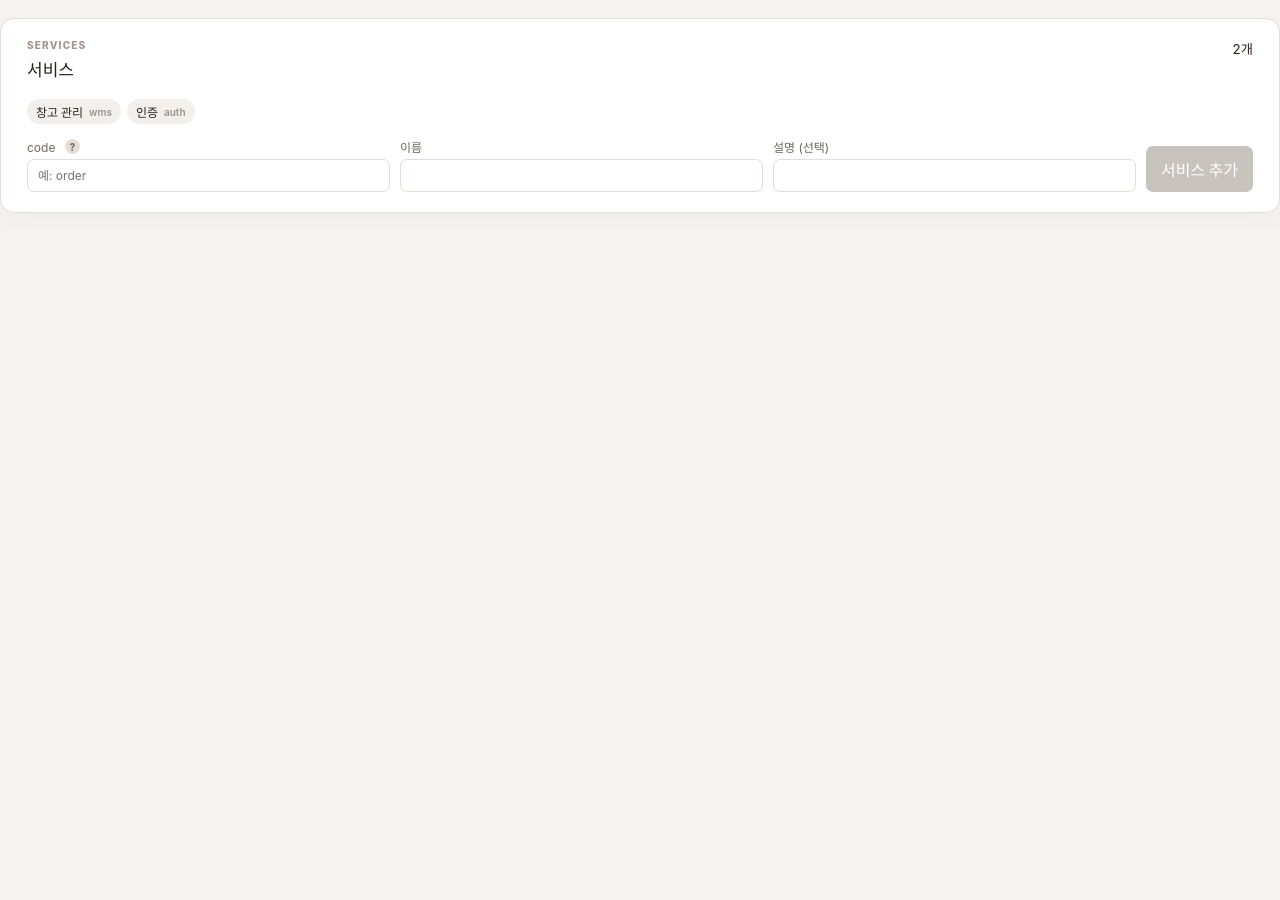
Test: AudiencePanel › owner는 올바른 code와 이름으로 서비스를 추가한다
Expected: the button "서비스 추가" is disabled, top-left (1146, 146), bottom-right (1253, 192)
Type "Order!" into the field labelled "code" at (208,176), box top-left (27, 159), bottom-right (390, 192)
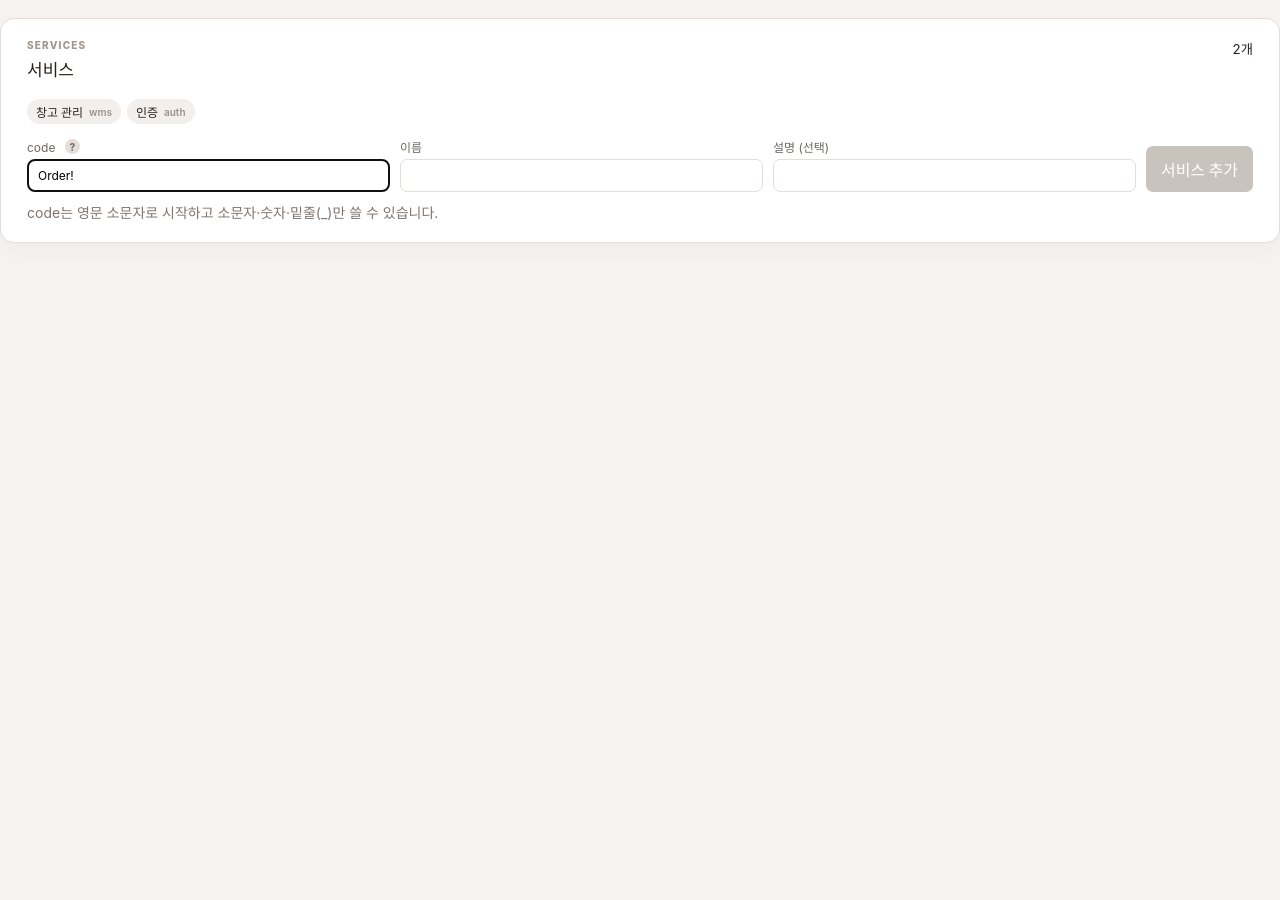
Type "주문" into the field labelled "이름" at (582,176), box top-left (400, 159), bottom-right (763, 192)
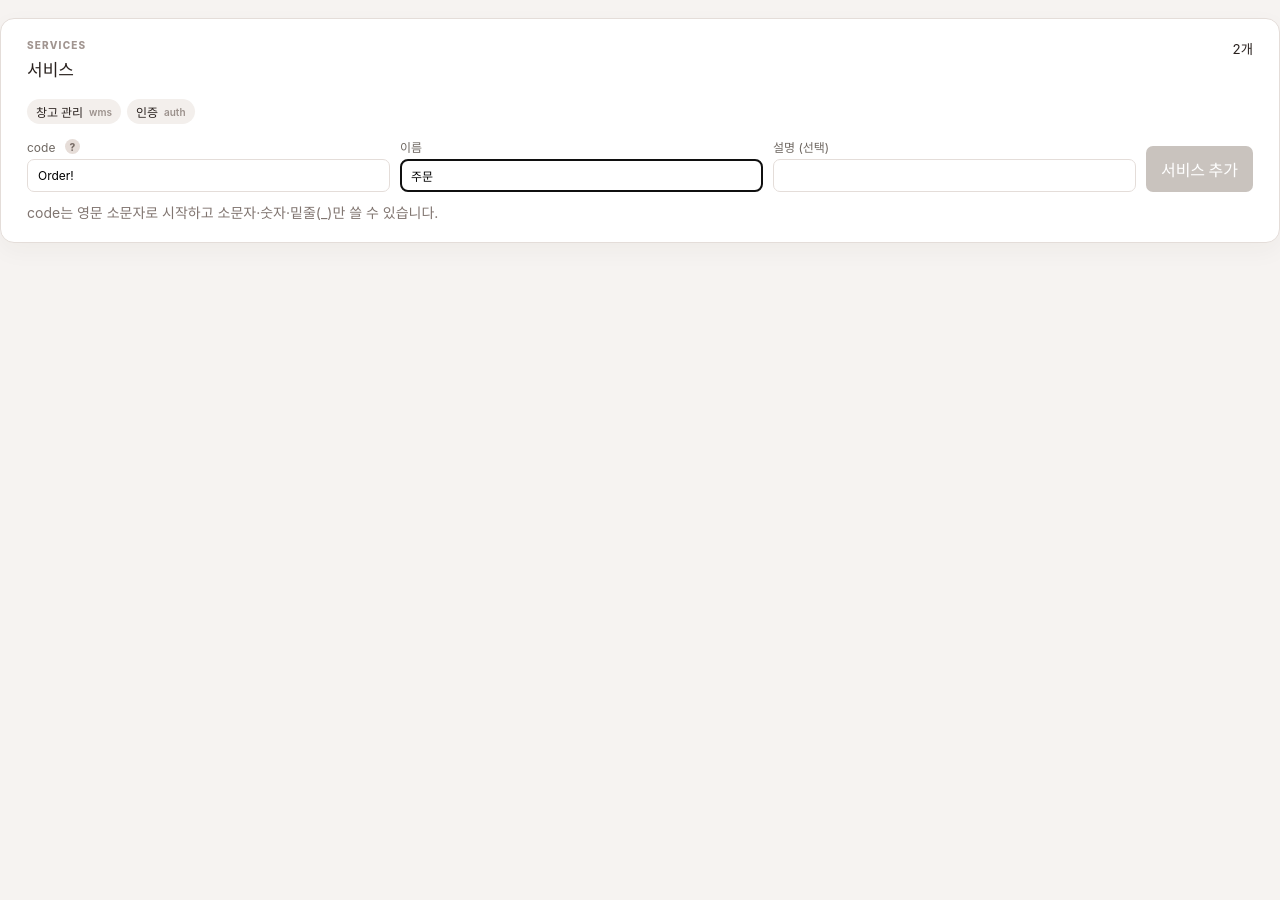
Expected: the button "서비스 추가" is disabled, top-left (1146, 146), bottom-right (1253, 192)
Replace the text in the field labelled "code" with "order" at (208,176), box top-left (27, 159), bottom-right (390, 192)
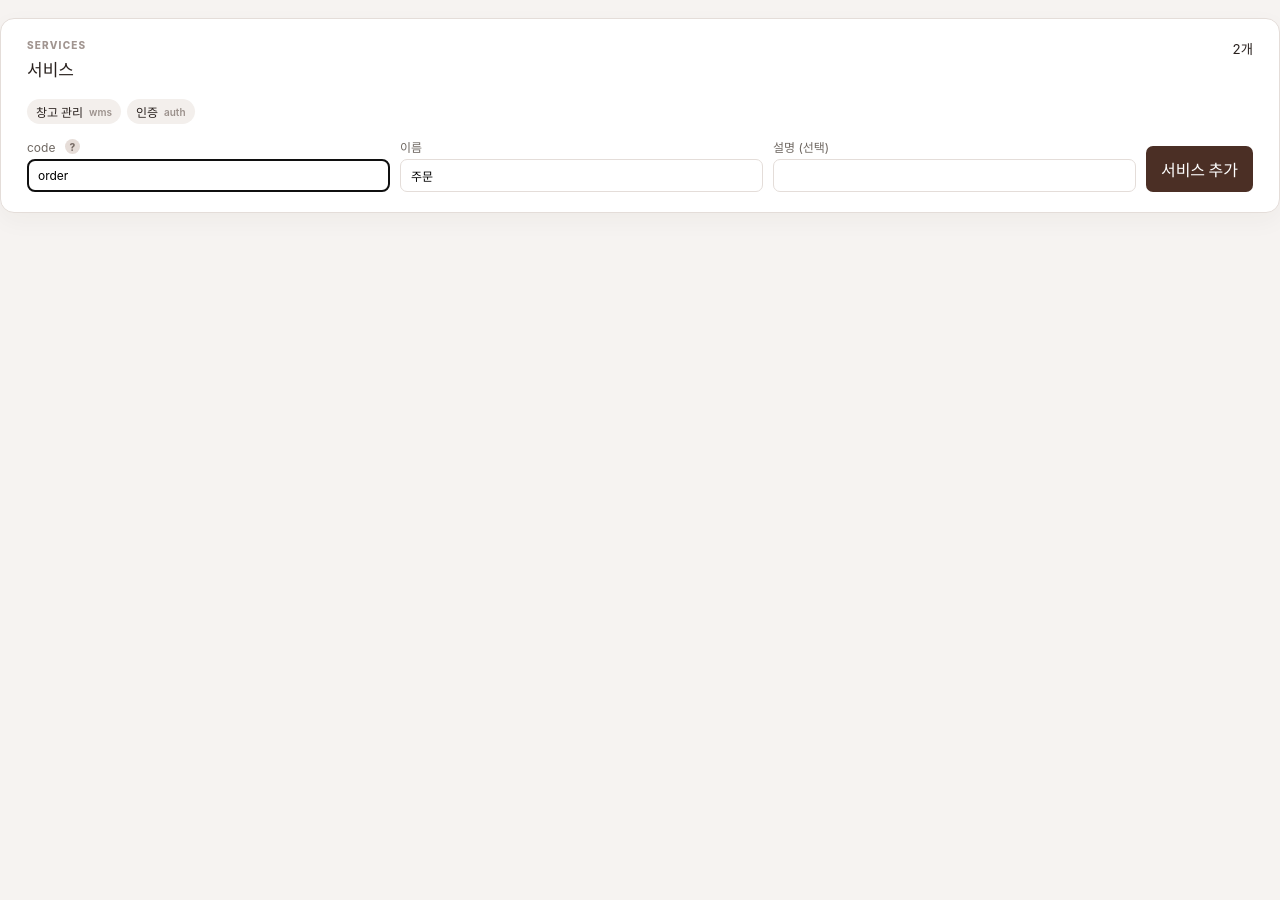
Click the button "서비스 추가" at (1199,169), box top-left (1146, 146), bottom-right (1253, 192)
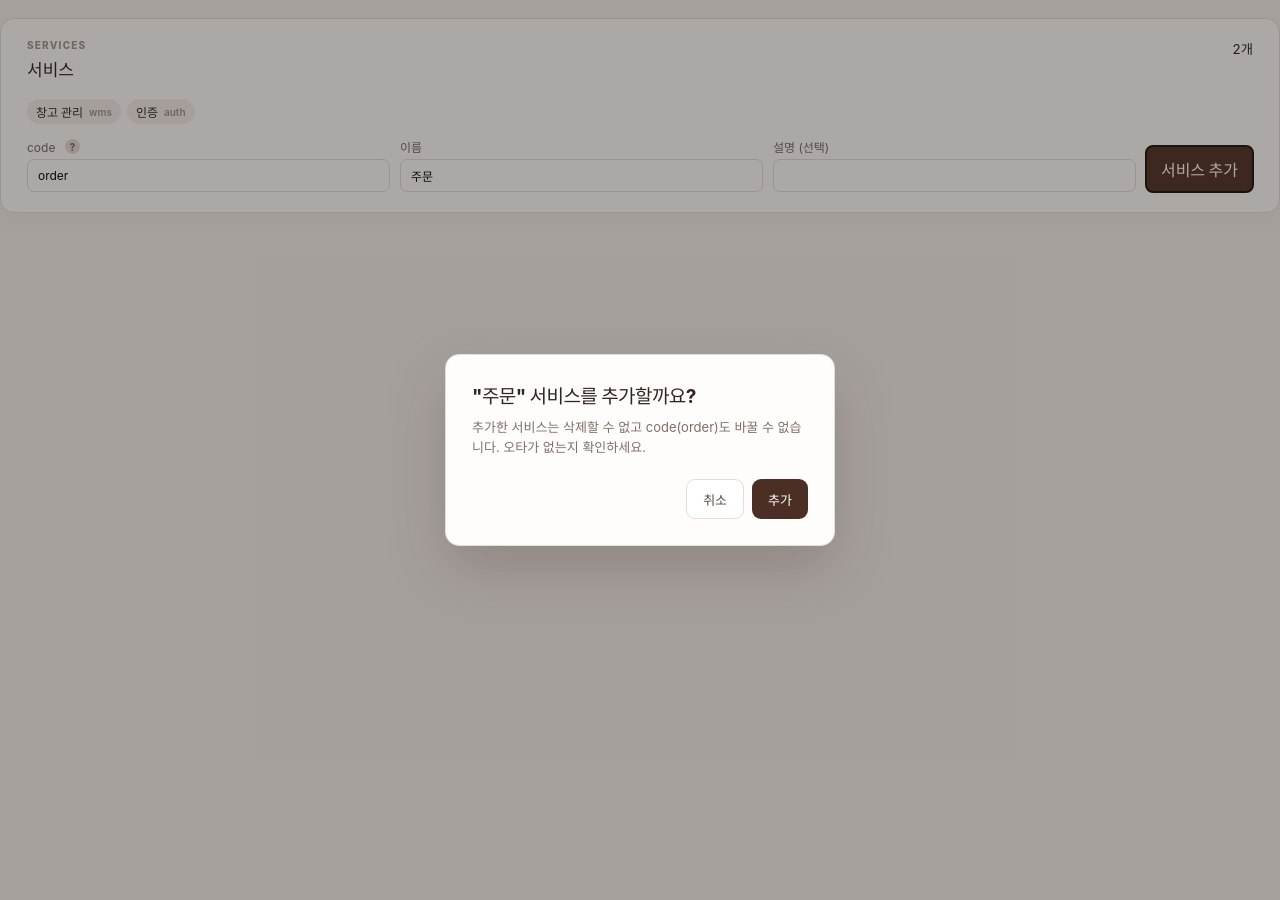
Click the button "추가" at (780,499), box top-left (752, 479), bottom-right (808, 519)
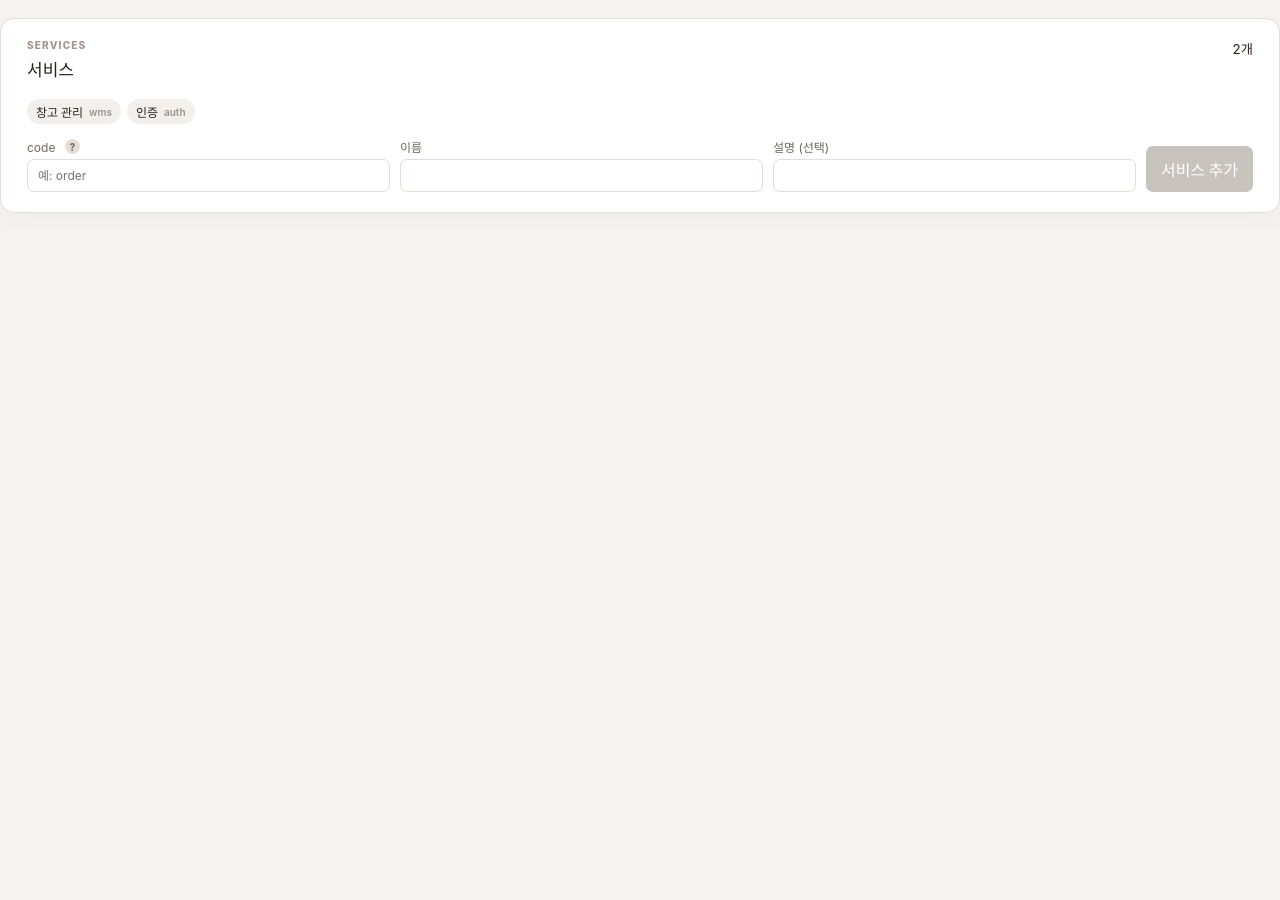
Expected: the dialog is gone
